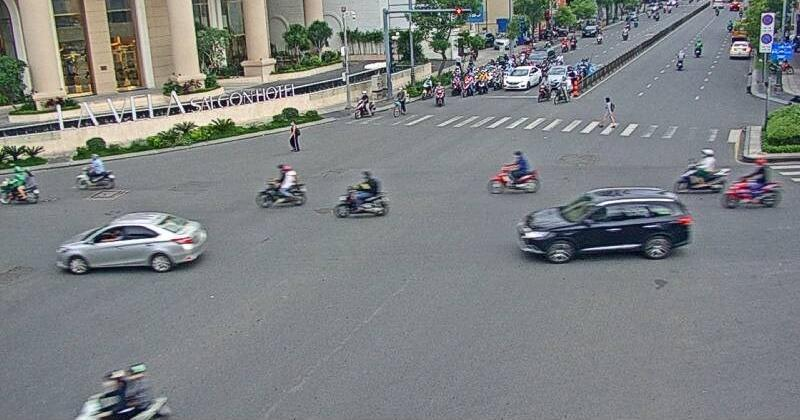xe hoi: (518, 187, 692, 263), (54, 211, 206, 274)
xe may: (486, 151, 541, 193), (76, 153, 115, 189)
